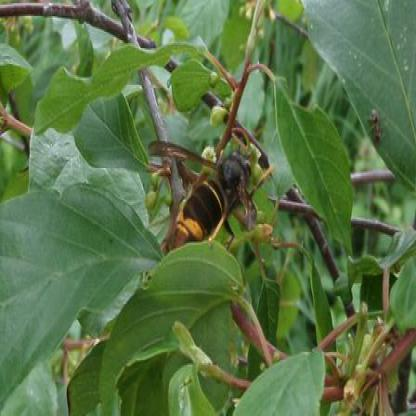Asian Hornet: (160, 124, 267, 272)
